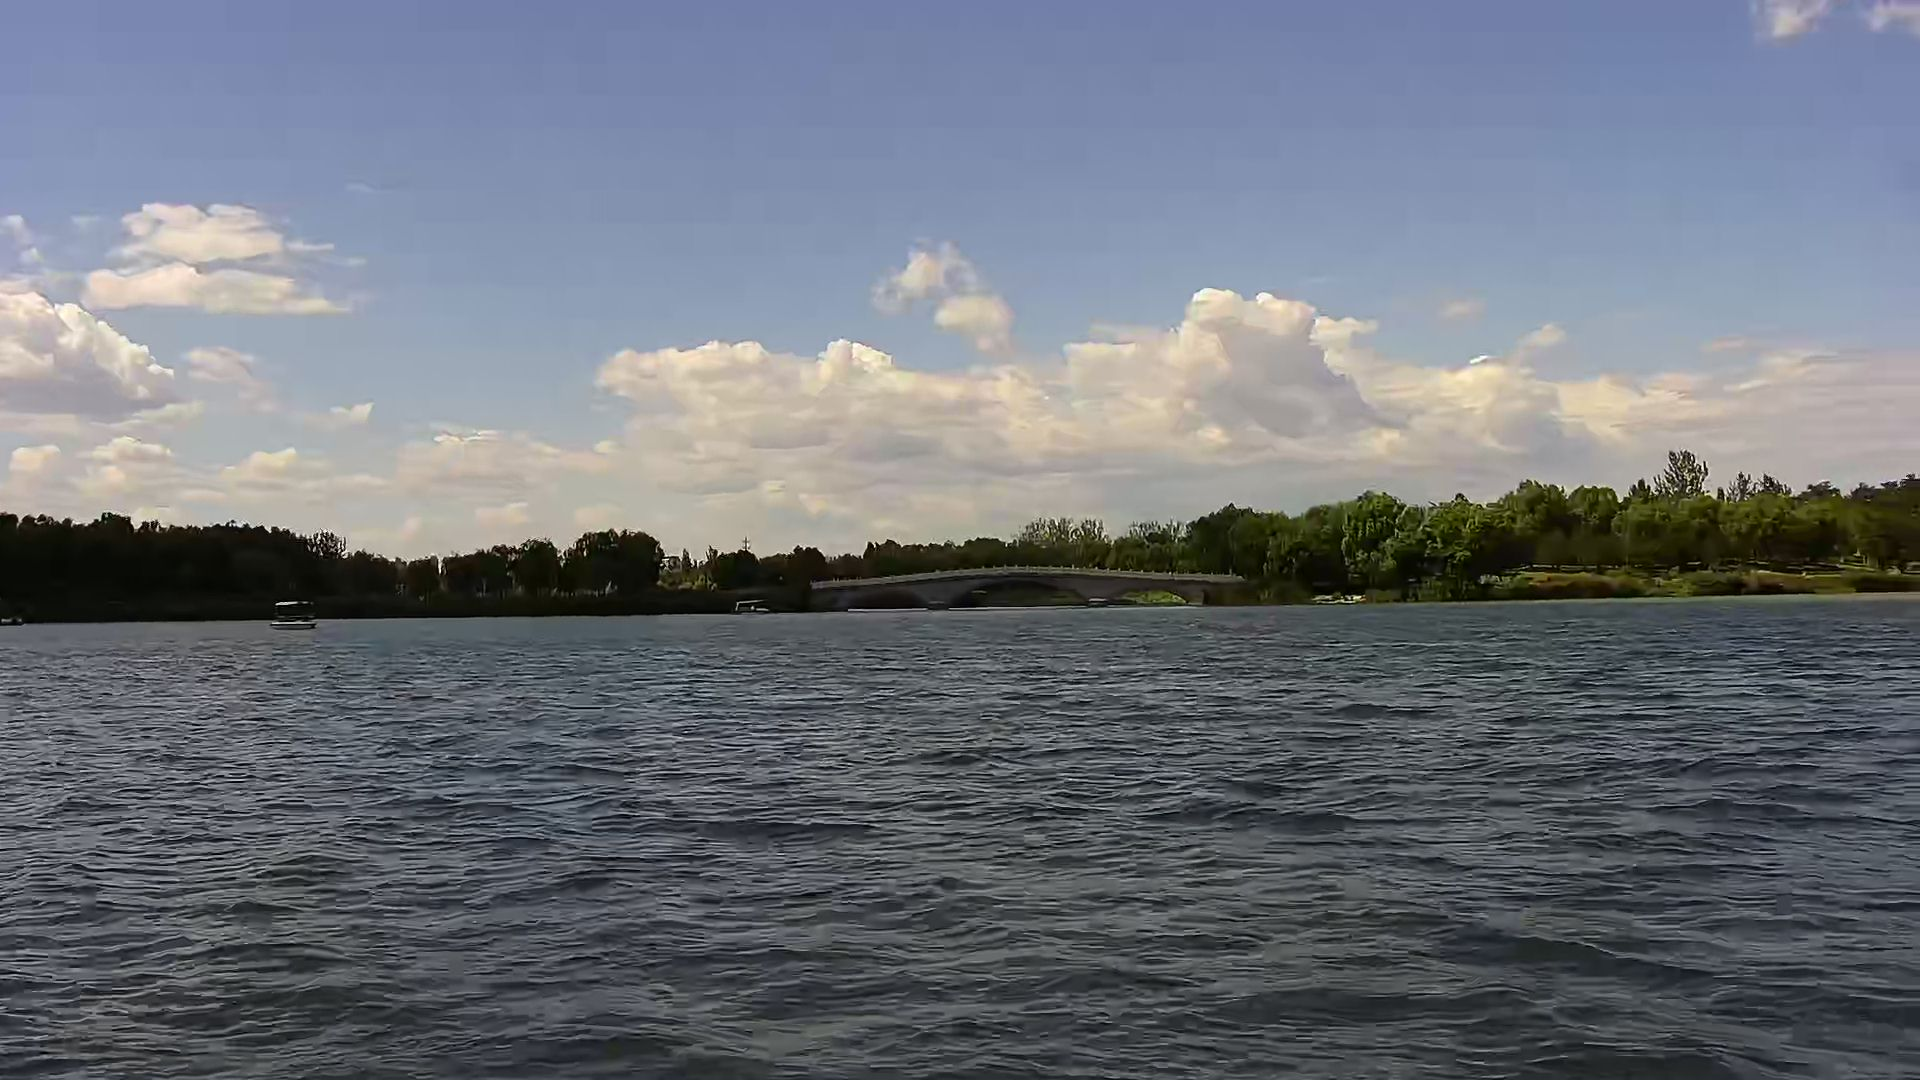boat: (270, 593, 324, 634)
bridge: (810, 568, 1251, 616)
